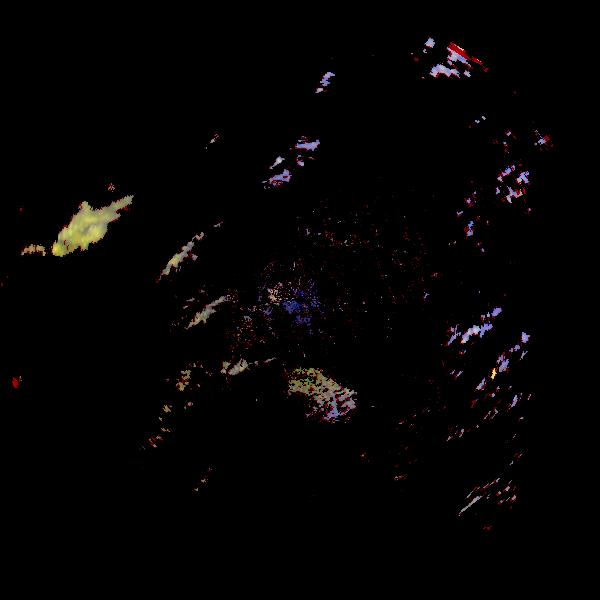roost: (256, 360, 346, 450), (276, 375, 357, 456)
